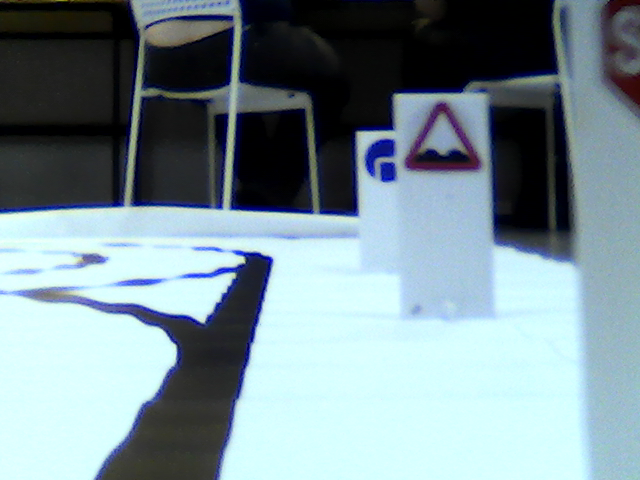Nerov: (408, 102, 480, 174)
Right: (367, 138, 397, 180)
